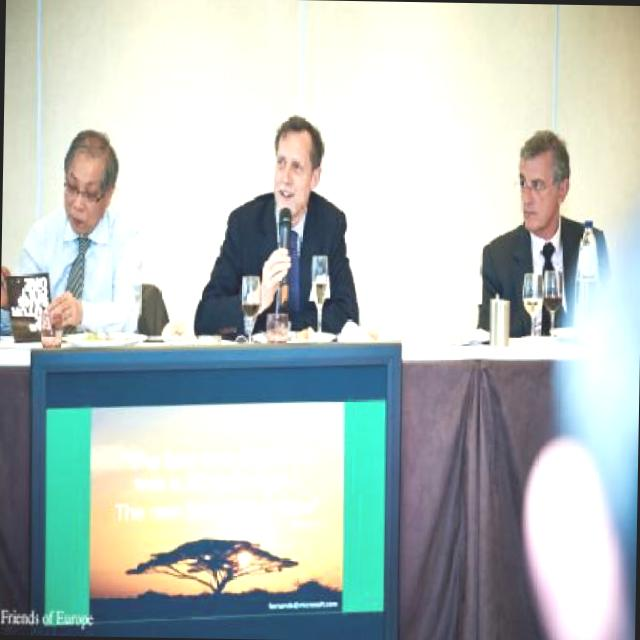Person: (197, 118, 361, 344), (0, 126, 146, 333), (477, 128, 612, 338)
